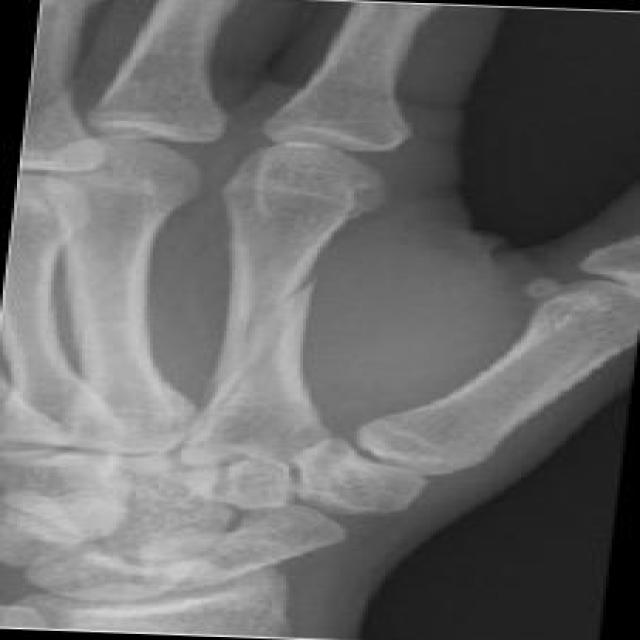Oblique Displaced: (200, 272, 340, 414)
